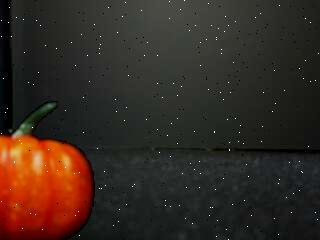Pumpkin: (0, 103, 95, 239)
